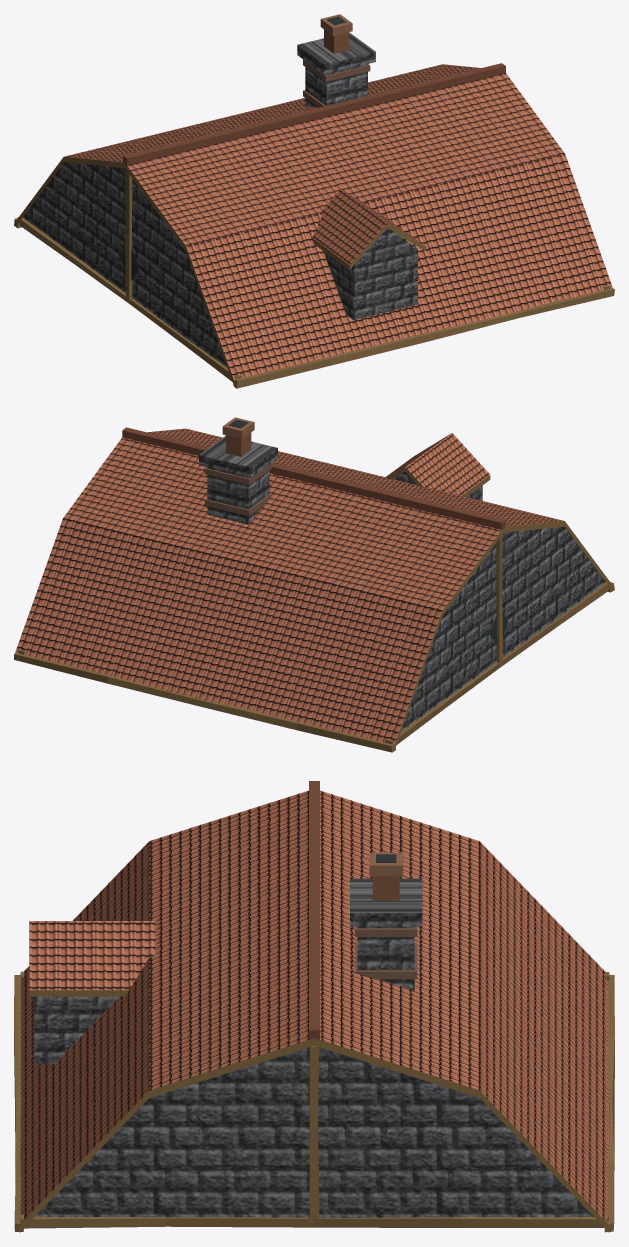
The model's file is town_Roof_10_gambrel.glb.
3 renders of one model, top to bottom at view 1: azimuth 30°, elevation 25°; view 2: azimuth 150°, elevation 25°; view 3: azimuth 270°, elevation 25°, orthographic. The views are drawn at different scales.
Parts seen in each view (by area): view 1: town_Roof_10_gambrel.005; view 2: town_Roof_10_gambrel.005; view 3: town_Roof_10_gambrel.005.
Part boxes in pixels (x1,y1,x2,y2): town_Roof_10_gambrel.005: [14, 14, 614, 388]; town_Roof_10_gambrel.005: [14, 417, 614, 752]; town_Roof_10_gambrel.005: [14, 781, 614, 1232].
Bounding box in the file's own units: 7 × 3.7 × 7.13.
Materials: 3 (2 with a texture image).
